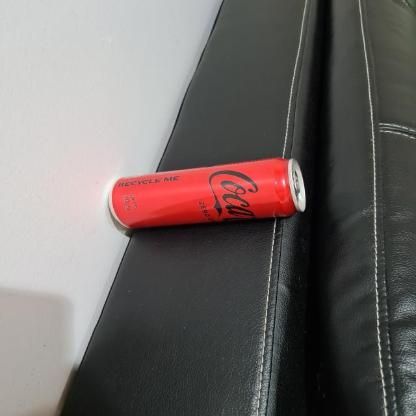Can: (104, 156, 312, 232)
